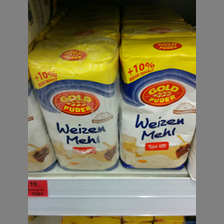flour: (28, 37, 119, 171), (118, 37, 195, 170)
